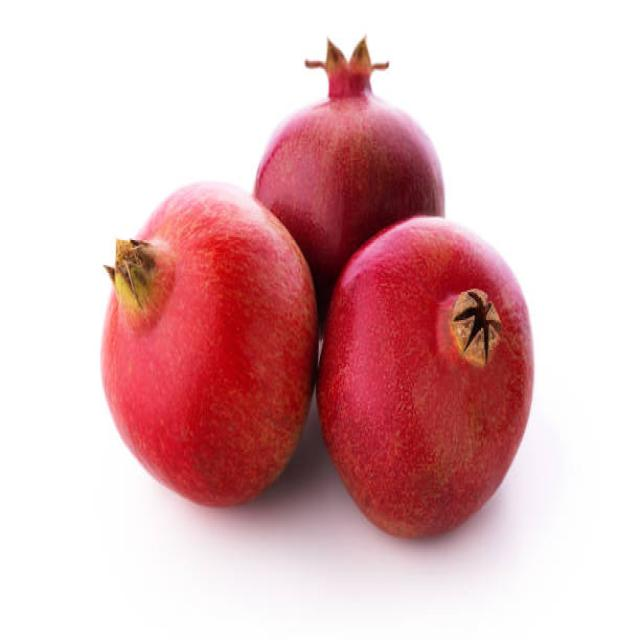Ripe: (92, 172, 318, 512), (324, 211, 536, 540), (249, 24, 446, 218)
